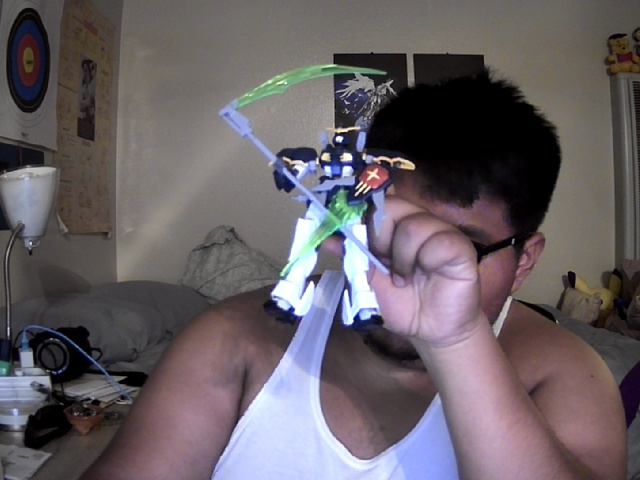Deathsythe: (218, 65, 415, 329)
